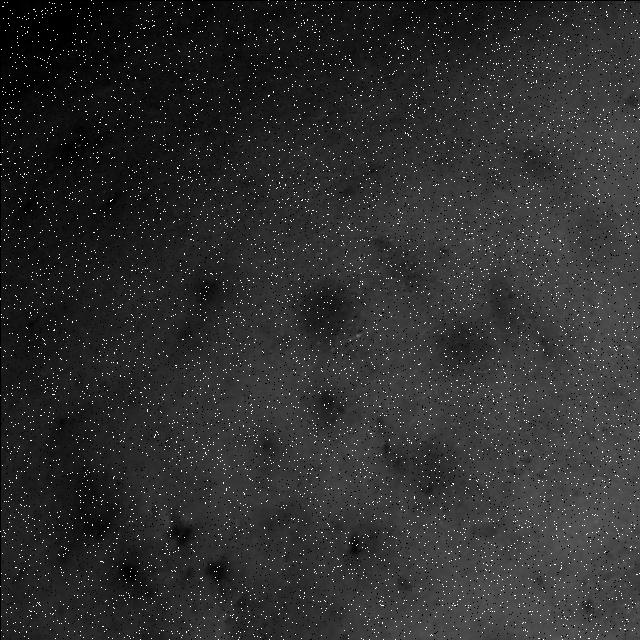nodules: (413, 308, 502, 398), (288, 276, 368, 368)
